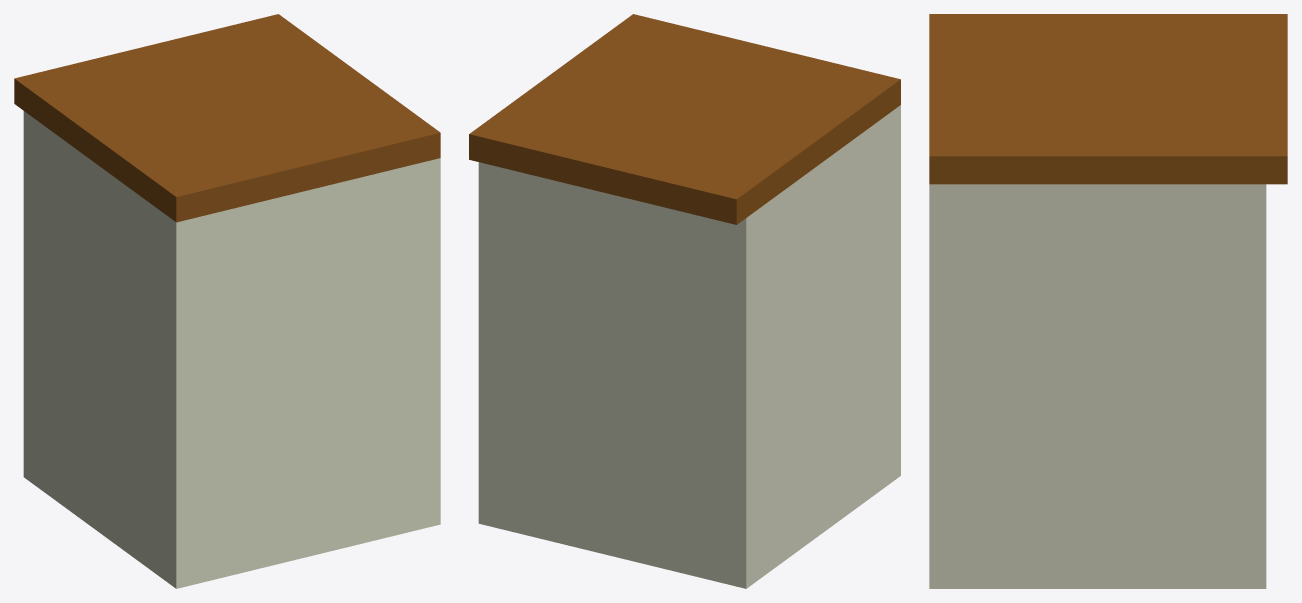
Rendered from meuble base.fbx.
3 views of the same model, side by side, from view 1: azimuth 30°, elevation 25°; view 2: azimuth 150°, elevation 25°; view 3: azimuth 270°, elevation 25° (orthographic). The views are drawn at different scales.
Parts seen in each view (by area): view 1: meuble; view 2: meuble; view 3: meuble.
Part boxes in pixels (x1,y1,x2,y2): meuble: (14,14,440,588); meuble: (469,14,900,588); meuble: (929,14,1287,588).
Size of the model in its own units: 60 by 85 by 63.75.
